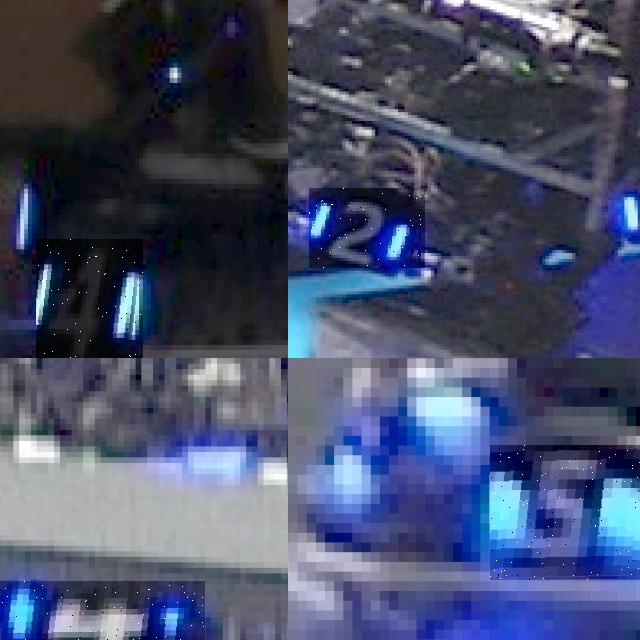B2: (309, 188, 425, 268)
B4: (35, 239, 143, 358), (0, 581, 205, 640)
B5: (489, 445, 640, 581)
